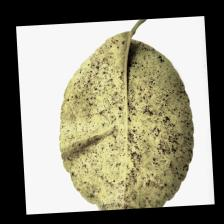canker: (75, 80, 181, 182)
